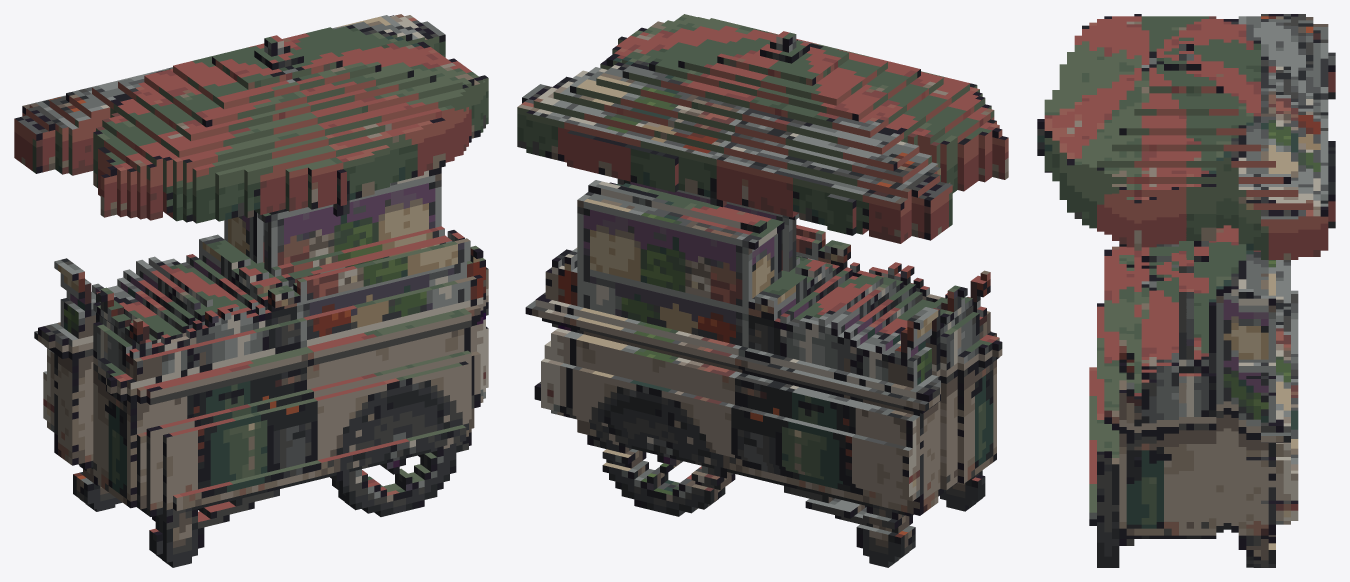
The model's file is city_noodle_cart.glb.
3 renders of one model, left to right at view 1: azimuth 30°, elevation 25°; view 2: azimuth 150°, elevation 25°; view 3: azimuth 270°, elevation 25°, orthographic. The views are drawn at different scales.
Parts seen in each view (by area): view 1: city_noodle_cart; view 2: city_noodle_cart; view 3: city_noodle_cart.
Part boxes in pixels (x1=…): city_noodle_cart: x1=14, y1=14, x2=488, y2=567; city_noodle_cart: x1=517, y1=14, x2=1008, y2=567; city_noodle_cart: x1=1037, y1=14, x2=1335, y2=567.
Size of the model in its own units: 2.03 by 2.19 by 1.25.
